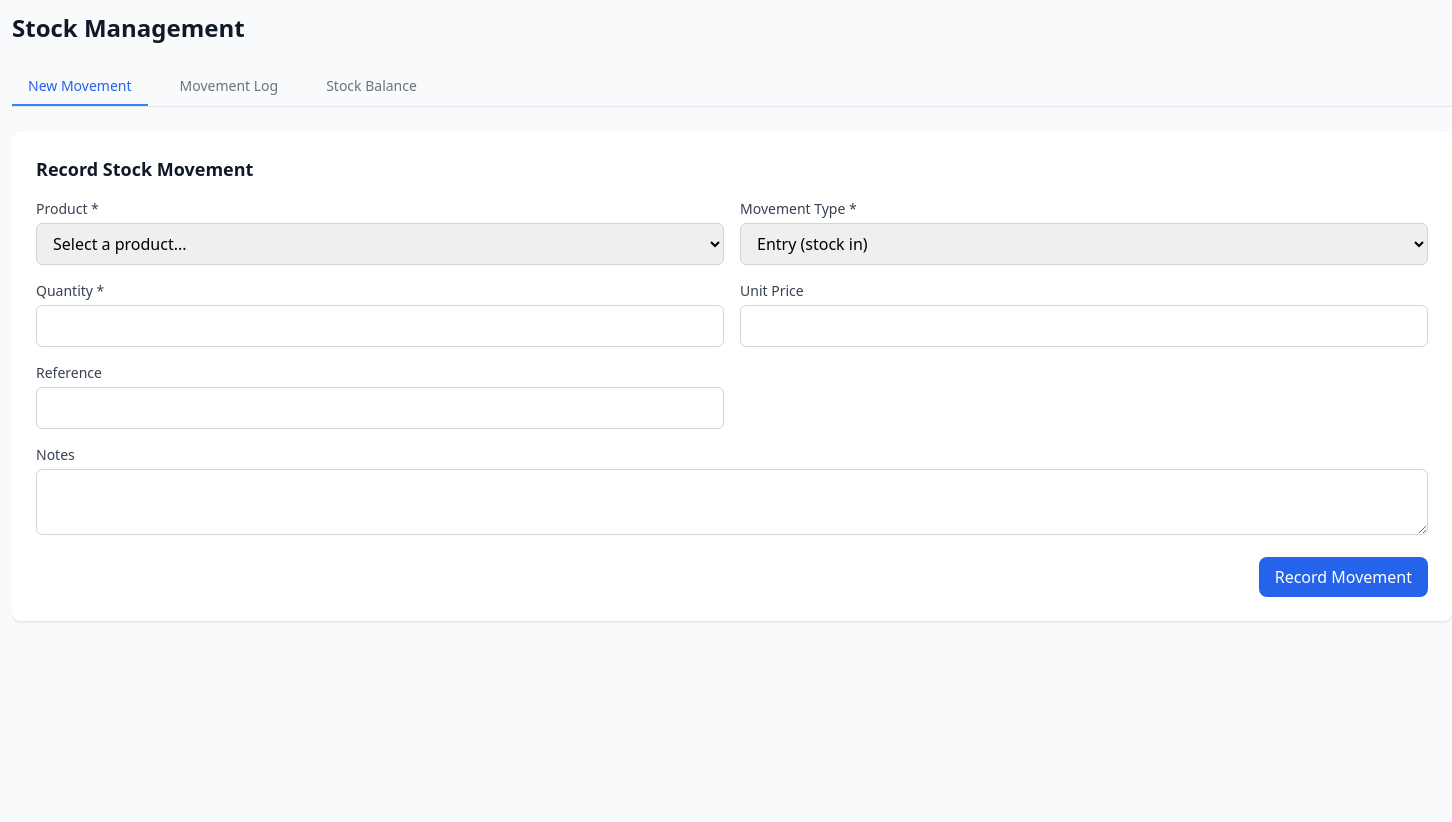
Test: StockPage › switches to movement log tab and shows movements
The width and height of the screenshot is (1452, 822).
Click the button "Movement Log": (229, 87) [164,68,294,106]
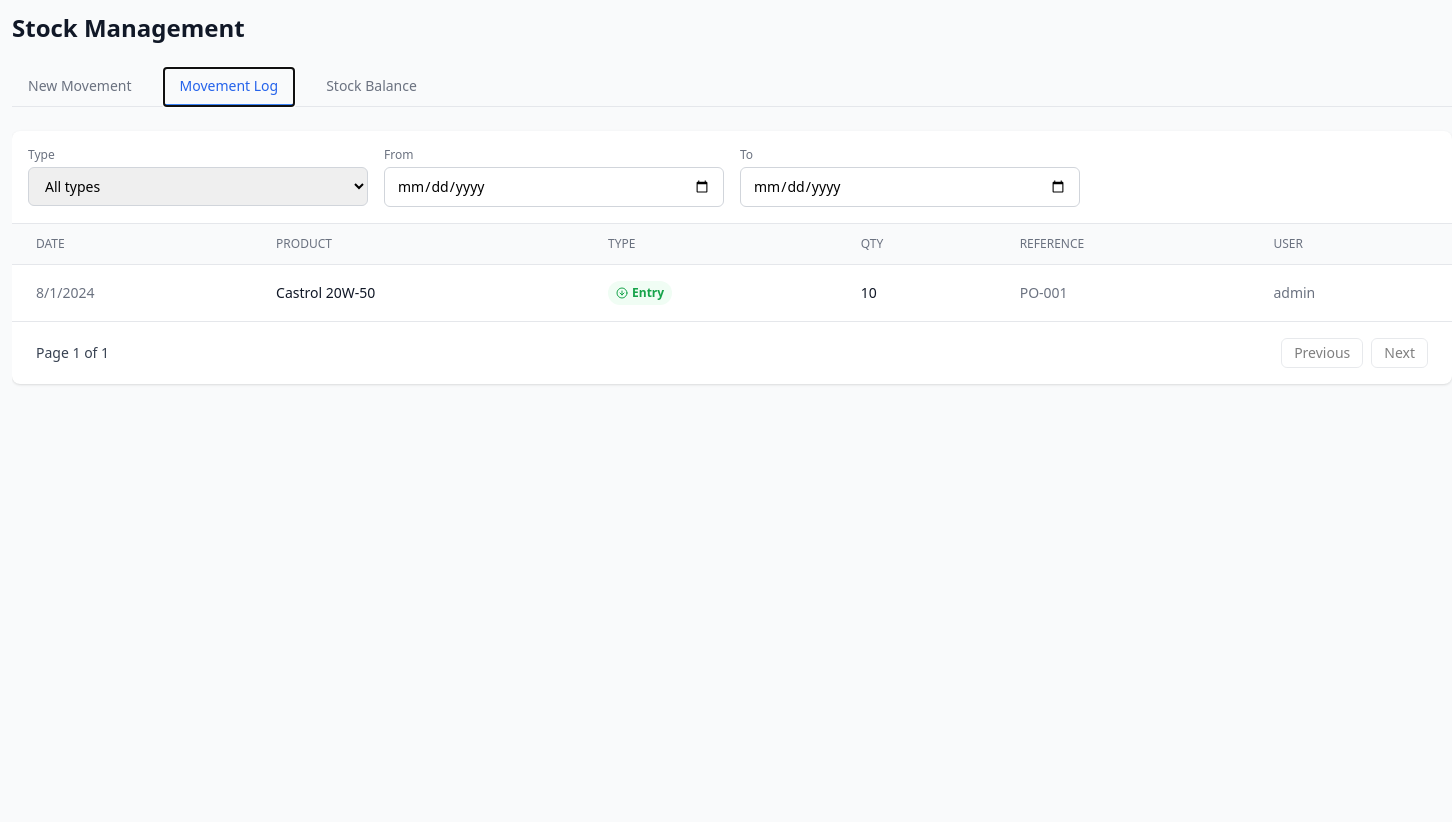
expect the text "Castrol 20W-50" is shown: met, box [252,264,584,321]
expect the text "PO-001" is shown: met, box [996,264,1250,321]
expect the text "admin" is shown: met, box [1249,264,1451,321]
